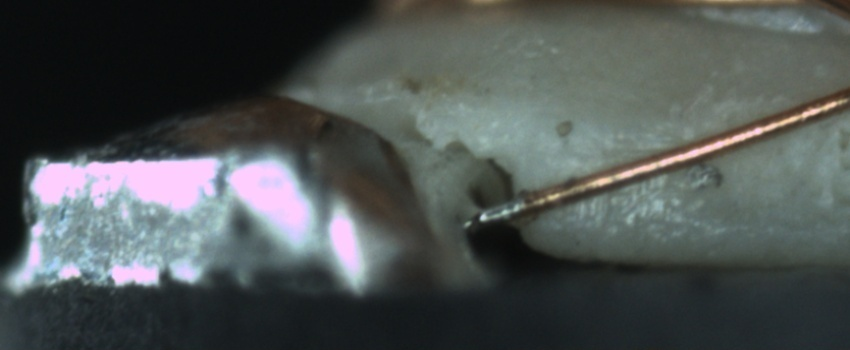DL: (545, 125, 682, 179)
TS: (472, 197, 526, 225)
